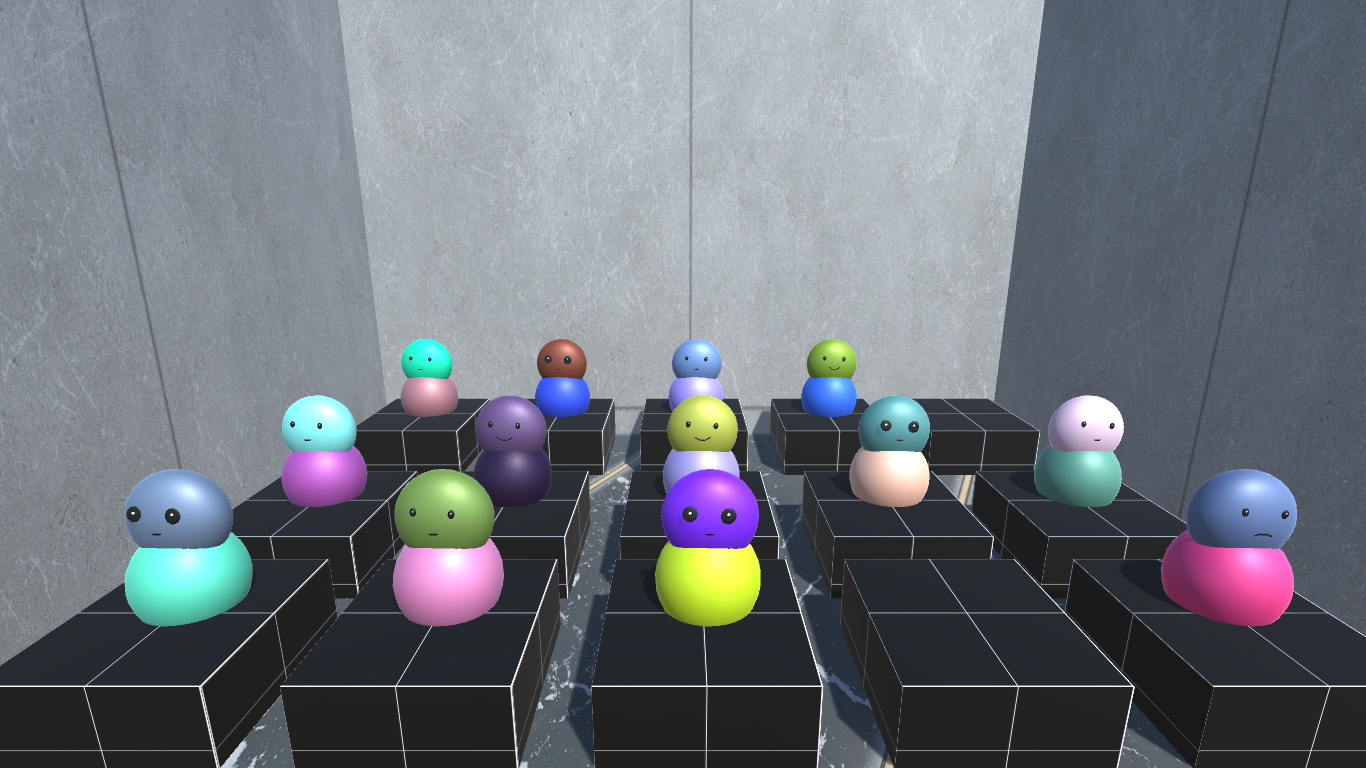blob_atento: (124, 466, 248, 621), (646, 469, 763, 629), (845, 393, 935, 508), (534, 339, 596, 429)
blob_feliz: (465, 392, 552, 511), (660, 394, 744, 495), (802, 337, 859, 424)
blob_normal: (390, 465, 500, 635), (1030, 394, 1130, 510), (276, 394, 367, 509), (400, 330, 460, 418), (672, 339, 722, 406)
blob_triste: (1164, 471, 1296, 637)
